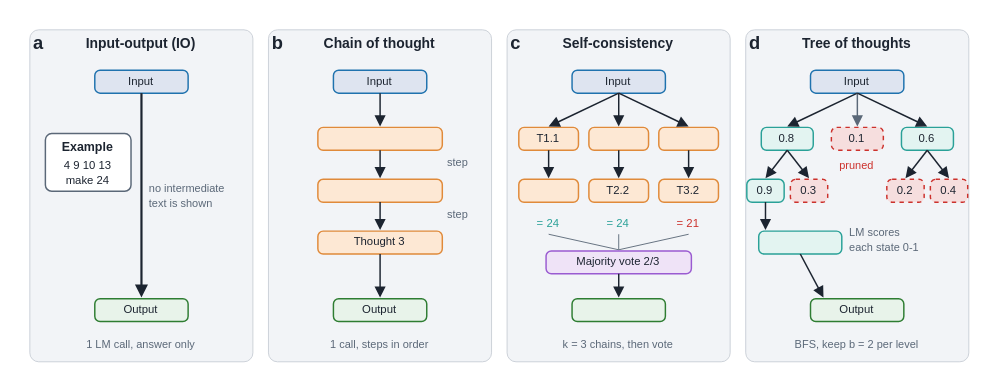
Some shapes in this 999 by 392 pixel diagram are drawn without their labels. The centre of each missing label's shape, as x and y in pixels:
"Output: 24" goes at point 617,309.
"Solution" goes at point 799,241.
"T1.2" goes at point 547,190.
"T2.1" goes at point 617,138.
"T3.1" goes at point 687,138.
"Thought 1" goes at point 379,138.
"Thought 2" goes at point 379,190.
